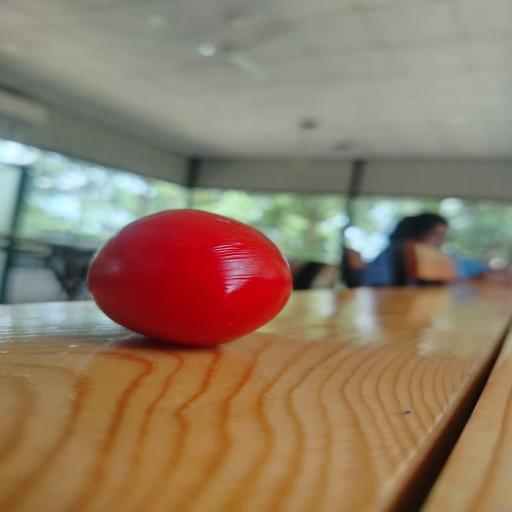spoiled: (88, 209, 292, 346)
